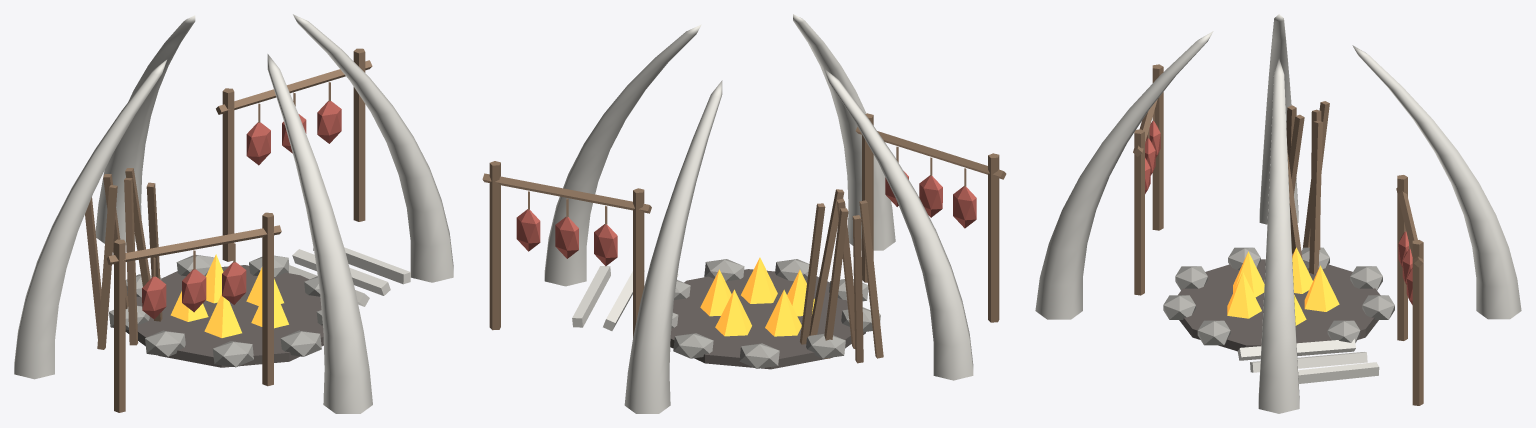
Rendered from town_center.glb.
3 renders of one model, left to right at view 1: azimuth 30°, elevation 25°; view 2: azimuth 150°, elevation 25°; view 3: azimuth 270°, elevation 25°, orthographic. The views are drawn at different scales.
Visible parts, largest first — view 1: TC_Tusk_South.001, TC_Tusk_West.001, TC_Tusk_East.001, TC_Pit.001, TC_Tusk_North.001, TC_Rack1_P.002, TC_Rack2_P.002, TC_Rack2_P.003, TC_Rack1_P.003, TC_Rack2_CB.001, TC_Stake_1.001, TC_Stake_0.001 (+22 smaller); view 2: TC_Tusk_North.001, TC_Tusk_West.001, TC_Pit.001, TC_Tusk_East.001, TC_Tusk_South.001, TC_Rack1_P.003, TC_Rack2_P.002, TC_Rack1_CB.001, TC_Rack1_P.002, TC_Stake_0.001, TC_Stake_3.001, TC_Stake_2.001 (+22 smaller); view 3: TC_Tusk_East.001, TC_Tusk_South.001, TC_Tusk_North.001, TC_Pit.001, TC_Tusk_West.001, TC_Rack1_P.003, TC_Rack2_P.003, TC_Stake_5.001, TC_Rack2_P.002, TC_Rack1_P.002, TC_Bone_2.001, TC_Bone_0.001 (+16 smaller).
Boxes of the visible parts, <box> form: TC_Tusk_South.001: <box>267,54,372,413</box>; TC_Tusk_West.001: <box>14,60,166,379</box>; TC_Tusk_East.001: <box>293,14,453,282</box>; TC_Pit.001: <box>125,265,323,367</box>; TC_Tusk_North.001: <box>95,15,195,244</box>; TC_Rack1_P.002: <box>222,88,234,261</box>; TC_Rack2_P.002: <box>114,239,125,412</box>; TC_Rack2_P.003: <box>262,212,273,386</box>; TC_Rack1_P.003: <box>353,48,365,221</box>; TC_Rack2_CB.001: <box>107,225,281,264</box>; TC_Stake_1.001: <box>124,177,138,345</box>; TC_Stake_0.001: <box>97,185,117,349</box>; TC_Tusk_North.001: <box>624,80,722,413</box>; TC_Tusk_West.001: <box>824,68,973,380</box>; TC_Pit.001: <box>670,269,865,369</box>; TC_Tusk_East.001: <box>544,24,701,286</box>; TC_Tusk_South.001: <box>793,14,895,250</box>; TC_Rack1_P.003: <box>489,161,500,330</box>; TC_Rack2_P.002: <box>988,153,999,322</box>; TC_Rack1_CB.001: <box>482,173,651,213</box>; TC_Rack1_P.002: <box>633,188,644,337</box>; TC_Stake_0.001: <box>859,200,883,358</box>; TC_Stake_3.001: <box>852,215,863,363</box>; TC_Stake_2.001: <box>809,189,844,335</box>; TC_Tusk_East.001: <box>1258,59,1299,413</box>; TC_Tusk_South.001: <box>1035,31,1213,319</box>; TC_Tusk_North.001: <box>1352,45,1521,319</box>; TC_Pit.001: <box>1178,259,1380,351</box>; TC_Tusk_West.001: <box>1259,14,1298,224</box>; TC_Rack1_P.003: <box>1412,240,1423,405</box>; TC_Rack2_P.003: <box>1134,129,1144,295</box>; TC_Stake_5.001: <box>1309,120,1322,274</box>; TC_Rack2_P.002: <box>1152,64,1163,230</box>; TC_Rack1_P.002: <box>1397,175,1407,340</box>; TC_Bone_2.001: <box>1298,362,1379,383</box>; TC_Bone_0.001: <box>1237,339,1355,360</box>.
Size of the model in its own units: 4.09 by 2.62 by 4.09.
